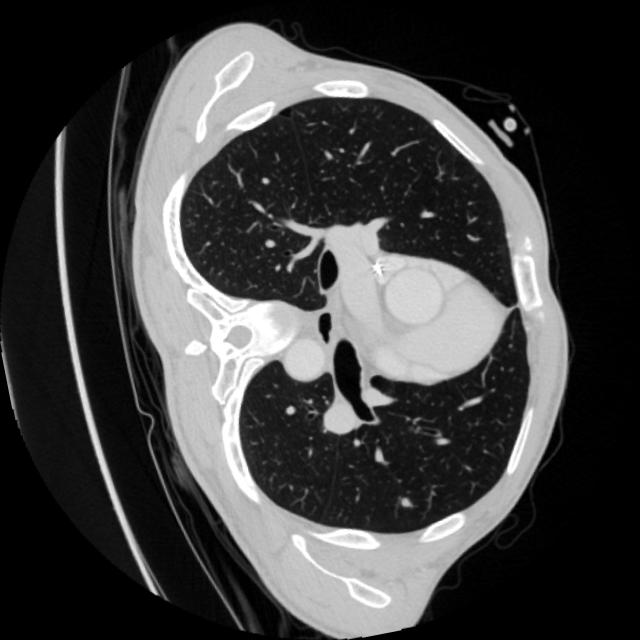nodule: (390, 484, 422, 518)
